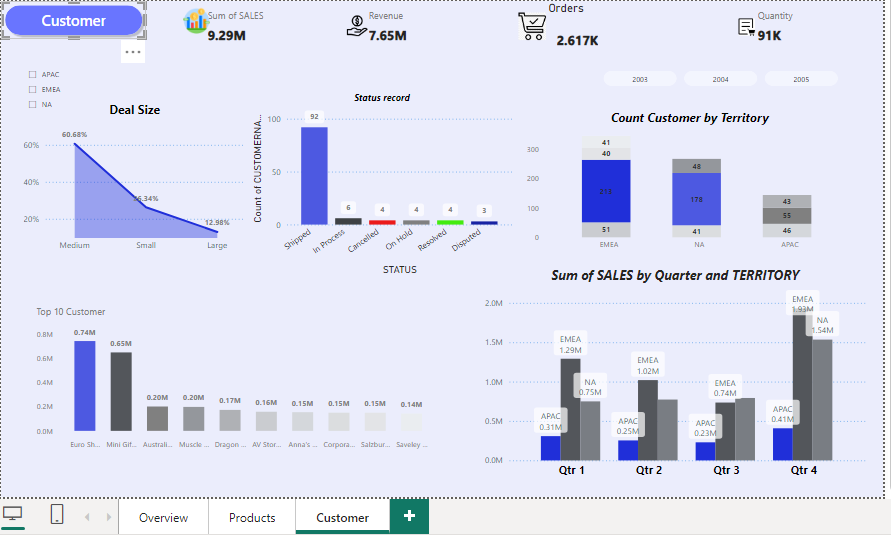

The page's visual inventory and layout, read from the dashboard file:
{"tool":"powerbi","page":{"name":"Customer","canvas":[1280,720],"ordinal":2},"visuals":[{"type":"clusteredColumnChart","title":"Top 10 Customer","fields":{"Category":["Sales_Analysis_Project1.CUSTOMERNAME"],"Y":["Sum(Sales_Analysis_Project1.SALES)"]},"box":[46.7,441.8,591.9,216.6],"z":0},{"type":"areaChart","title":"Deal Size","fields":{"Category":["Sales_Analysis_Project1.DEALSIZE"],"Y":["Divide(Sum(Sales_Analysis_Project1.SALES), ScopedEval(Sum(Sales_Analysis_Project1.SALES), []))"]},"box":[26.9,144.4,332.7,228],"z":1000},{"type":"lineClusteredColumnComboChart","title":"Status record","fields":{"Category":["Sales_Analysis_Project1.STATUS"],"Y":["Count(Sales_Analysis_Project1.CUSTOMERNAME)"]},"box":[359.6,130.3,386.5,271.9],"z":2000},{"type":"columnChart","title":"Count Customer by Territory","fields":{"Category":["Sales_Analysis_Project1.TERRITORY"],"Series":["Sales_Analysis_Project1.CUSTOMERNAME"],"Y":["CountNonNull(Sales_Analysis_Project1.ORDERNUMBER)"]},"box":[757.5,157.2,484.2,215.2],"z":3000},{"type":"shape","box":[0,0,211,55.2],"z":4000},{"type":"advancedSlicerVisual","fields":{"Values":["Sales_Analysis_Project1.ORDERDATE.Variation.Date Hierarchy.Year"]},"box":[849.6,96.3,392.2,34],"z":5000},{"type":"slicer","fields":{"Values":["Sales_Analysis_Project1.TERRITORY"]},"box":[26.9,90.6,82.1,79.3],"z":6000},{"type":"cardVisual","fields":{"Data":["Sum(Sales_Analysis_Project1.SALES)"]},"box":[283.2,0,181.2,103.4],"z":7000},{"type":"cardVisual","fields":{"Data":["Sales_Analysis_Project1.Revenue"]},"box":[516.8,0,179.8,104.8],"z":8000},{"type":"cardVisual","title":"Orders","fields":{"Data":["CountNonNull(Sales_Analysis_Project1.ORDERNUMBER)"]},"box":[790.1,0,181.2,103.4],"z":9000},{"type":"cardVisual","fields":{"Data":["Sum(Sales_Analysis_Project1.QUANTITYORDERED)"]},"box":[1081.8,0,178.4,104.8],"z":10000},{"type":"lineClusteredColumnComboChart","fields":{"Category":["Sales_Analysis_Project1.ORDERDATE.Variation.Date Hierarchy.Quarter"],"Y":["Sum(Sales_Analysis_Project1.SALES)"],"Series":["Sales_Analysis_Project1.TERRITORY"]},"box":[696.6,385.1,563.5,317.2],"z":11000},{"type":"image","box":[259.1,2.8,48.1,52.4],"z":12000},{"type":"image","box":[491.3,15.6,51,39.6],"z":13000},{"type":"image","box":[745.9,8.6,50,56.9],"z":14000},{"type":"image","box":[1061.9,19.8,39.6,35.4],"z":15000}]}

Visuals, with their boxes on the page's 1280x720 design canvas (x1, y1, x2, y2). These are canvas units, not pixel positions in the 891x535 screenshot, which may show the page scaled, cropped or inside an application window:
"Top 10 Customer" clusteredColumnChart: detection(47, 442, 639, 658)
"Deal Size" areaChart: detection(27, 144, 360, 372)
"Status record" lineClusteredColumnComboChart: detection(360, 130, 746, 402)
"Count Customer by Territory" columnChart: detection(758, 157, 1242, 372)
shape: detection(0, 0, 211, 55)
advancedSlicerVisual - Sales_Analysis_Project1.ORDERDATE.Variation.Date Hierarchy.Year: detection(850, 96, 1242, 130)
slicer - Sales_Analysis_Project1.TERRITORY: detection(27, 91, 109, 170)
cardVisual - Sum(Sales_Analysis_Project1.SALES): detection(283, 0, 464, 103)
cardVisual - Sales_Analysis_Project1.Revenue: detection(517, 0, 697, 105)
"Orders" cardVisual: detection(790, 0, 971, 103)
cardVisual - Sum(Sales_Analysis_Project1.QUANTITYORDERED): detection(1082, 0, 1260, 105)
lineClusteredColumnComboChart - Sales_Analysis_Project1.ORDERDATE.Variation.Date Hierarchy.Quarter x Sum(Sales_Analysis_Project1.SALES): detection(697, 385, 1260, 702)
image: detection(259, 3, 307, 55)
image: detection(491, 16, 542, 55)
image: detection(746, 9, 796, 66)
image: detection(1062, 20, 1102, 55)
